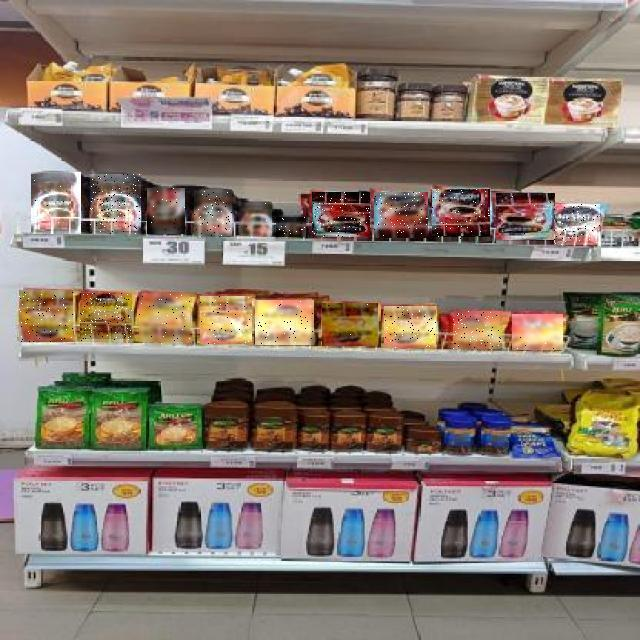Coffee: (31, 172, 81, 234), (90, 174, 141, 234), (496, 194, 555, 244), (433, 190, 491, 240), (19, 290, 73, 342), (255, 300, 314, 345), (313, 192, 371, 237), (139, 293, 190, 342), (80, 294, 132, 342), (200, 296, 252, 344), (374, 193, 428, 239), (322, 303, 378, 346), (384, 306, 436, 348), (554, 204, 600, 245), (512, 315, 563, 351), (454, 311, 502, 349), (147, 188, 185, 234), (194, 190, 232, 236), (239, 202, 272, 236), (276, 217, 306, 237)
